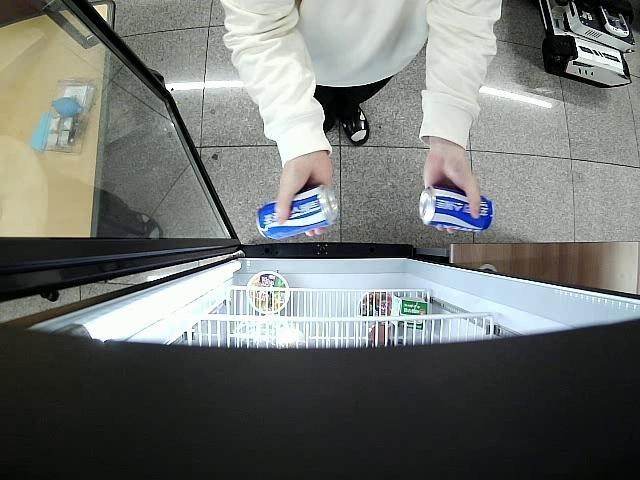13_pocariSweat: (255, 185, 338, 240), (418, 184, 494, 235)
